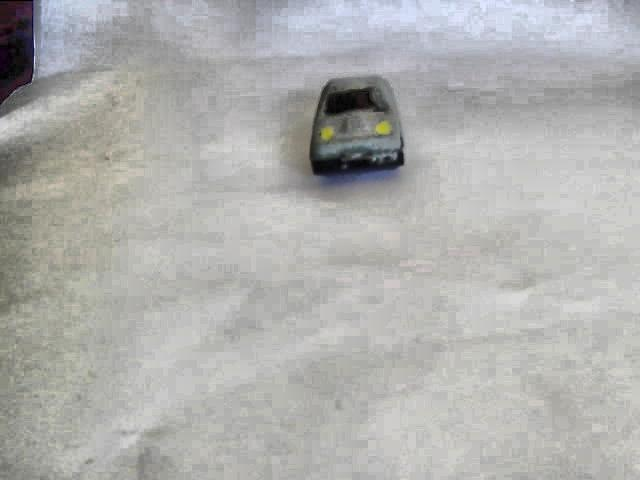normal_car: (305, 72, 409, 177)
